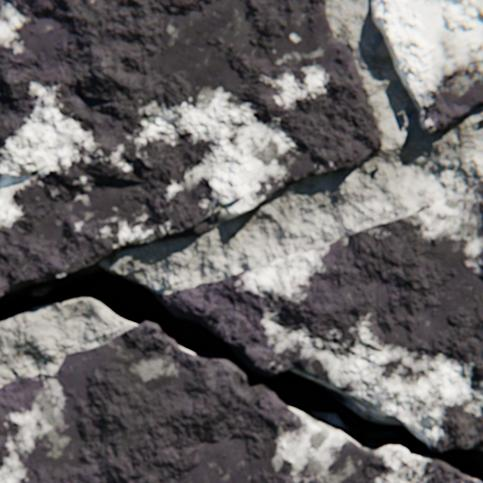brick: (0, 0, 380, 298), (371, 0, 482, 134)
broken_brick: (155, 181, 482, 450), (0, 321, 480, 482)
crack: (0, 265, 482, 482), (430, 60, 482, 98)
